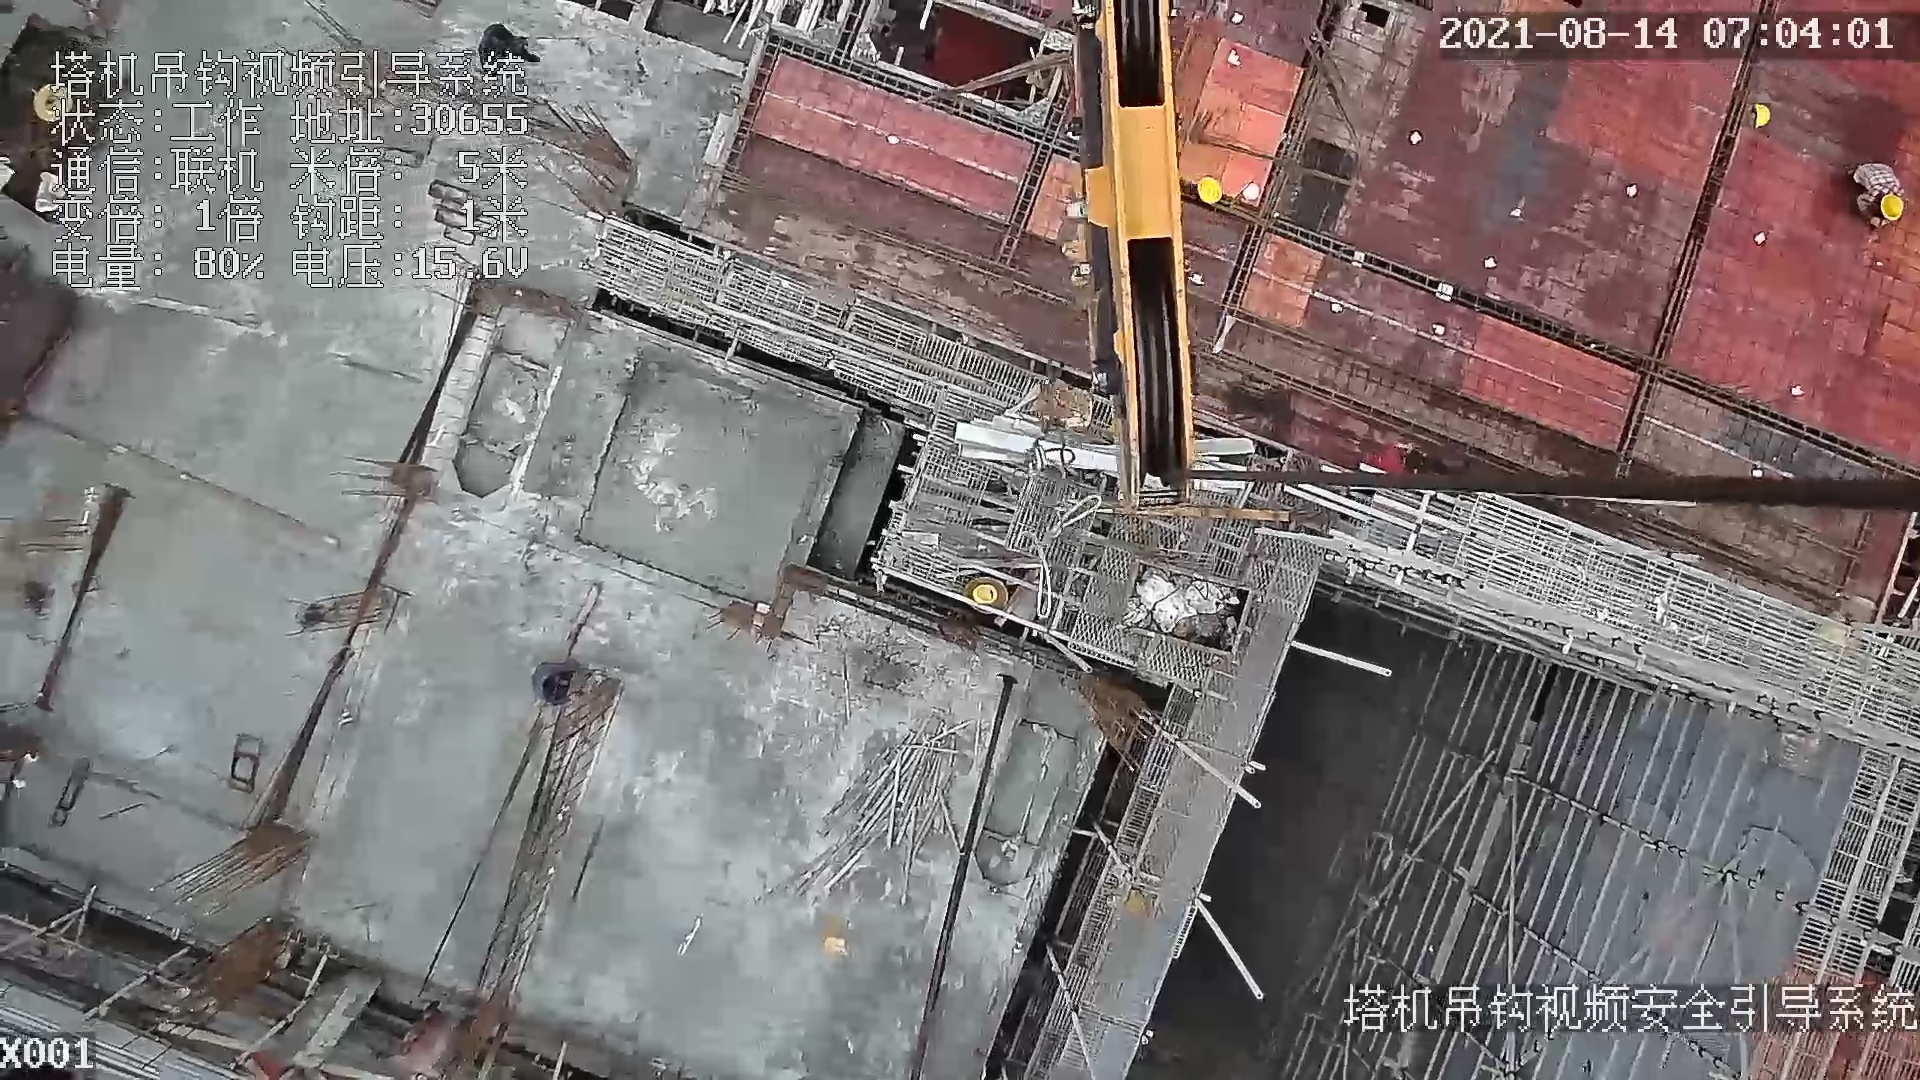helmet: (1877, 194, 1906, 222), (1751, 98, 1774, 133), (1198, 178, 1222, 206)
hook: (1062, 12, 1212, 527)
person: (1845, 162, 1910, 236), (477, 21, 546, 76), (1366, 438, 1436, 480), (531, 660, 577, 701)
